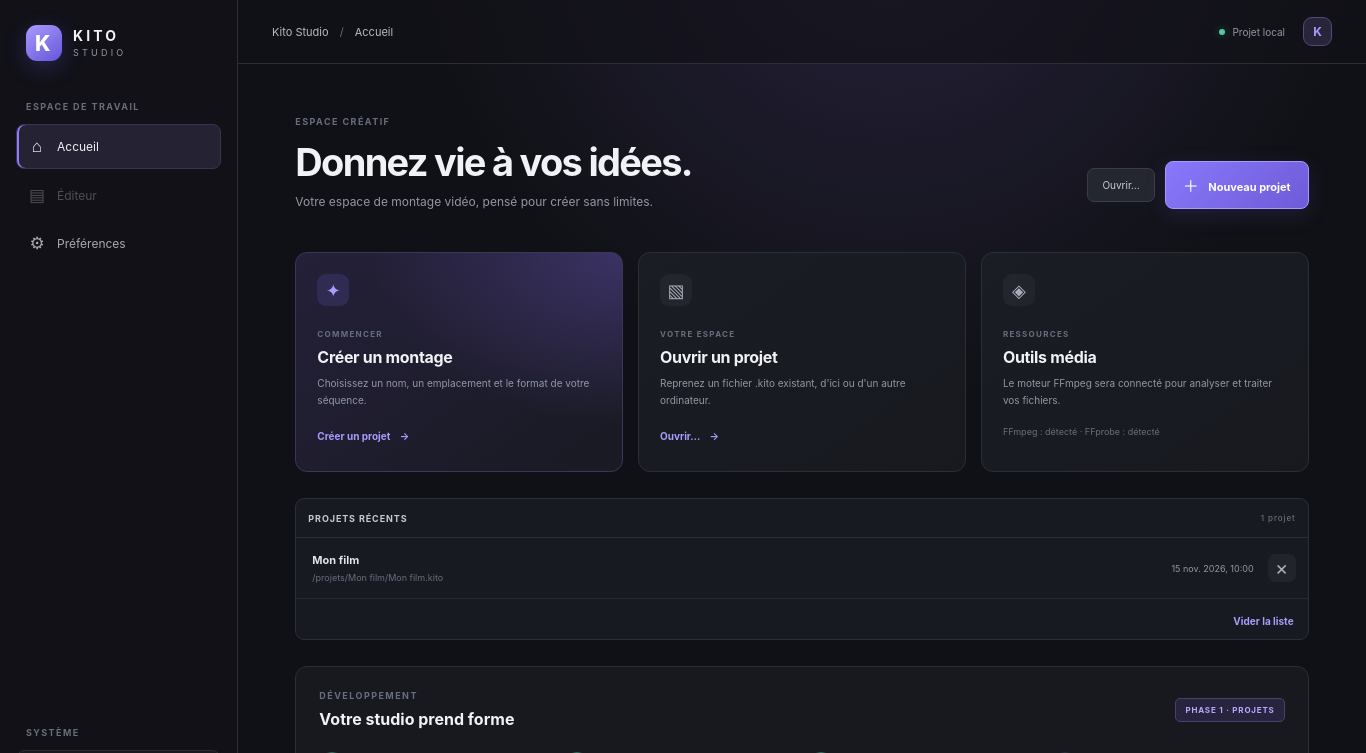
Test: modifications non enregistrées › demande confirmation avant de fermer un projet modifié
Click the text "Mon film": (336, 560) [312, 553, 359, 567]
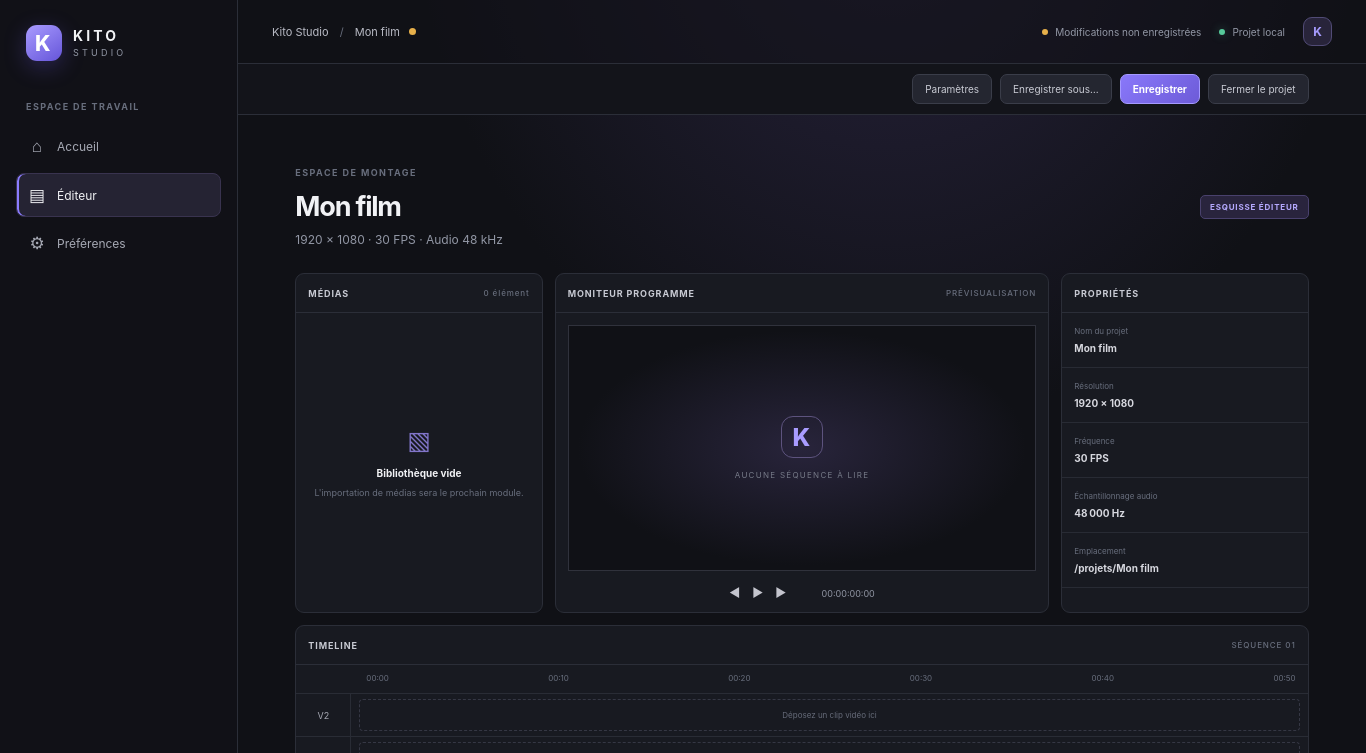
Expected: the heading "Mon film" is shown, [295, 190, 401, 223]
Click the button "Fermer le projet": (1258, 89) [1208, 74, 1309, 104]
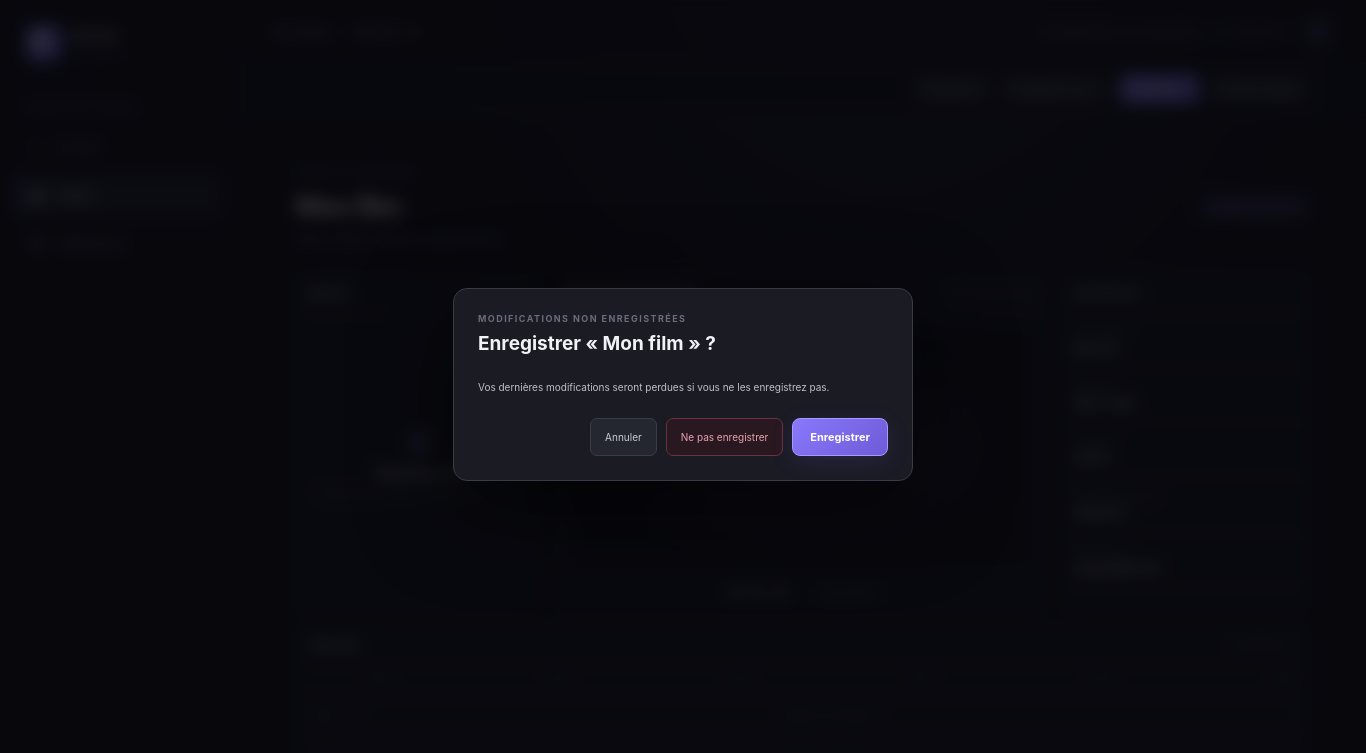
Expected: the heading "Enregistrer « Mon film » ?" is shown, [478, 332, 716, 354]
